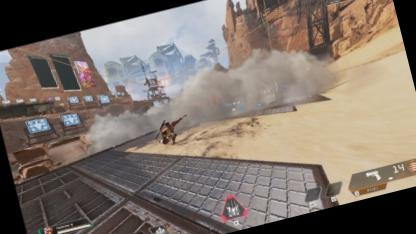Target: (154, 117, 180, 148)
